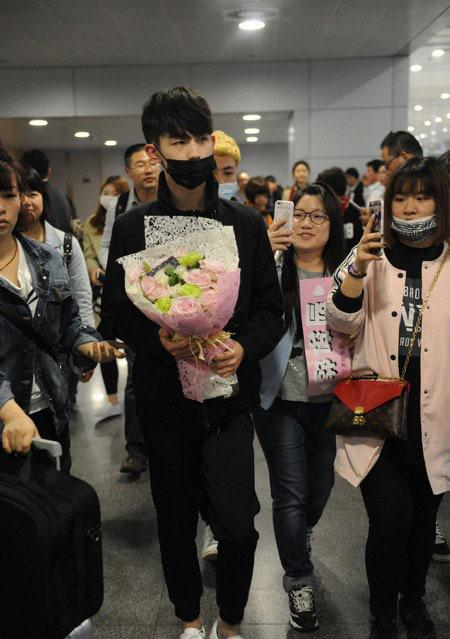NONE: (1, 187, 20, 234), (133, 156, 159, 189), (21, 192, 42, 220), (297, 167, 308, 182)
OK: (294, 207, 332, 250), (204, 162, 240, 203), (101, 189, 122, 214)
WRONG: (154, 128, 214, 186), (393, 184, 447, 238)
